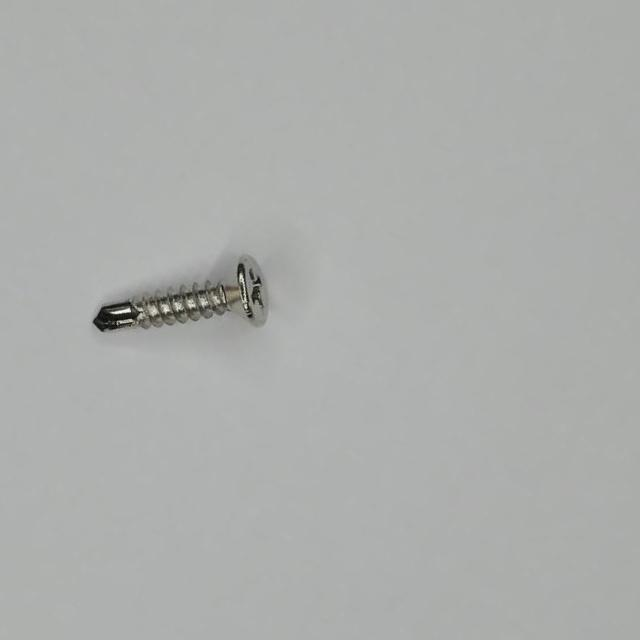Screw: (93, 255, 269, 332)
